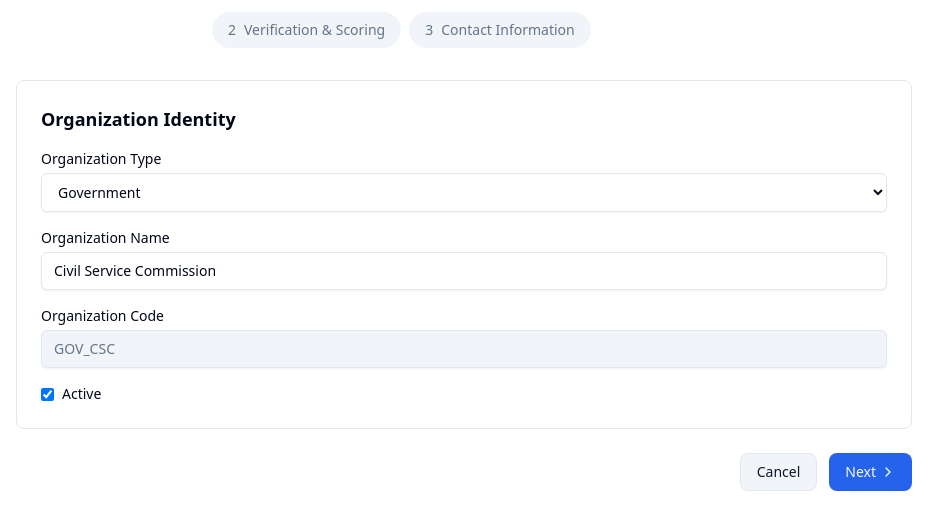
OrganizationWizard › does NOT auto-set trust level in edit mode
This screenshot has width=933, height=508.
Select "Cooperative" in the dropdown labelled "Organization Type" at (464, 192), box [41,173,887,212]
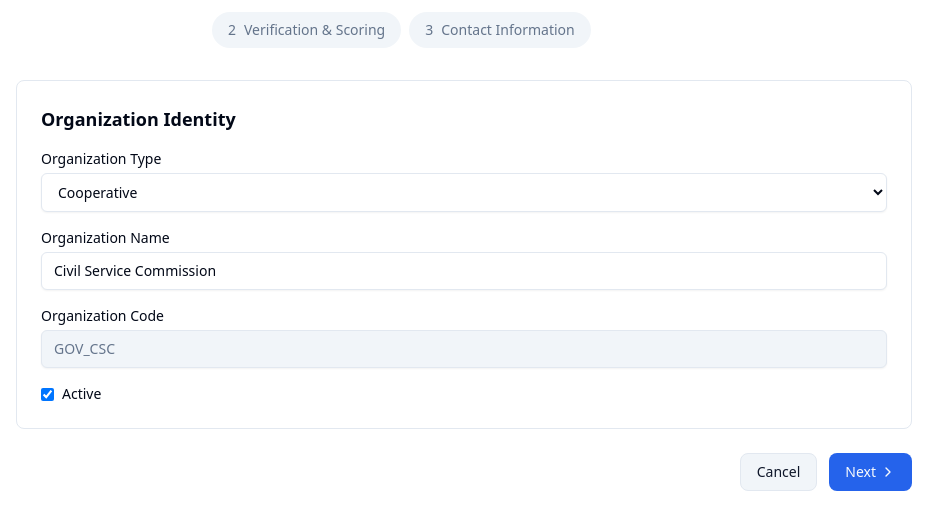
Navigate to step 2 to check trust level
Click the button "Next" at (871, 472), box [829,453,912,491]
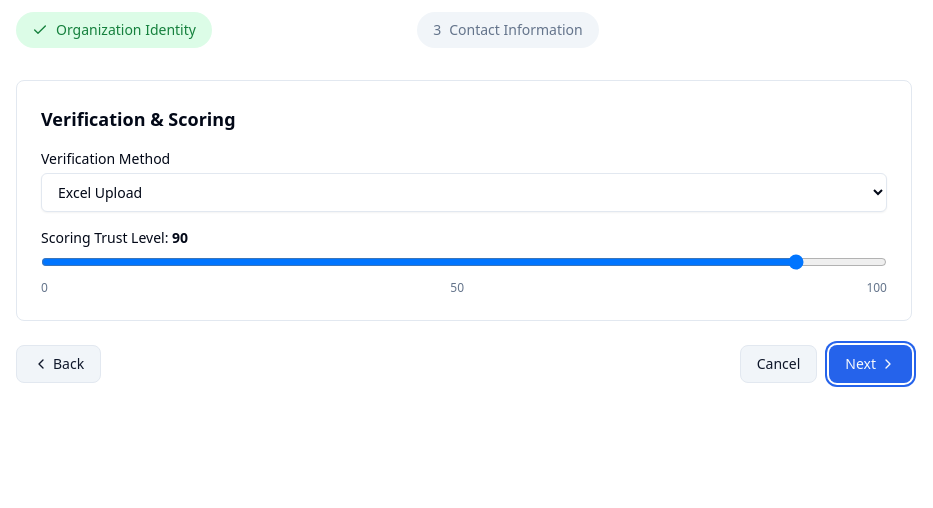
Result: the heading "Verification & Scoring" is shown at [41,107,236,131]
Result: the slider labelled "Scoring Trust Level: 90" holds "90" at [41,254,887,270]
